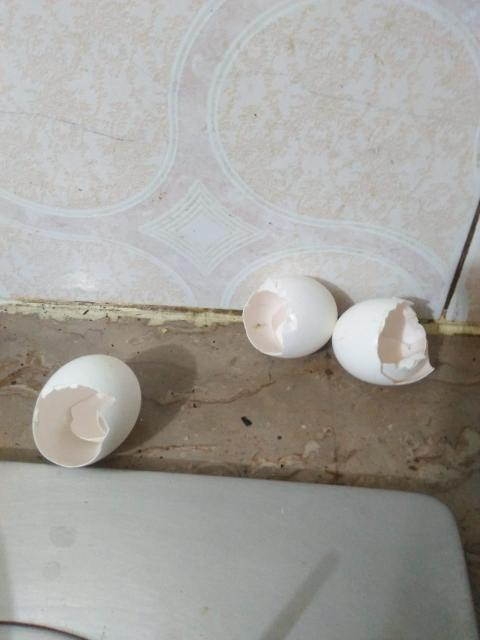Roto: (31, 352, 142, 468), (331, 296, 435, 386), (241, 274, 338, 359)
